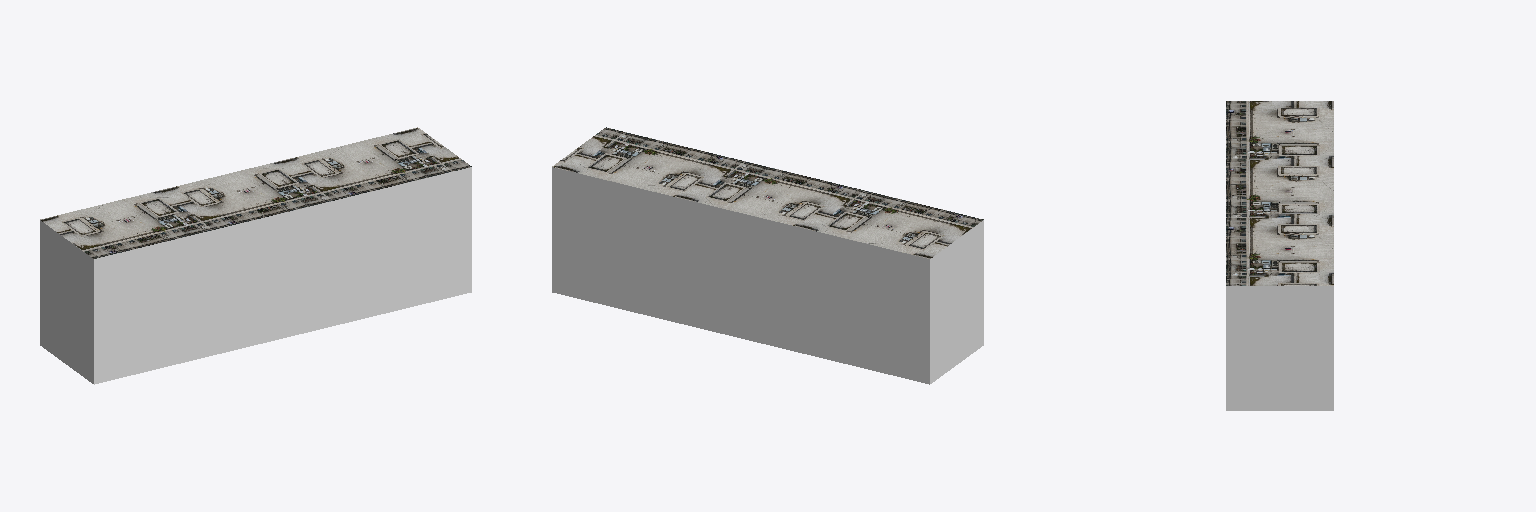
The picture shows the model from 3 angles: view 1: azimuth 30°, elevation 25°; view 2: azimuth 150°, elevation 25°; view 3: azimuth 270°, elevation 25°; orthographic projection.
Parts seen in each view (by area): view 1: Building_56.[number redacted]_14.[number redacted]; view 2: Building_56.[number redacted]_14.[number redacted]; view 3: Building_56.[number redacted]_14.[number redacted].
Part boxes in pixels (bbox=[...]): Building_56.[number redacted]_14.[number redacted]: bbox=[40, 127, 471, 384]; Building_56.[number redacted]_14.[number redacted]: bbox=[552, 127, 983, 384]; Building_56.[number redacted]_14.[number redacted]: bbox=[1226, 101, 1333, 410].
Bounding box in the file's own units: 56.85 × 18 × 14.07.
Materials: 2 (1 with a texture image).